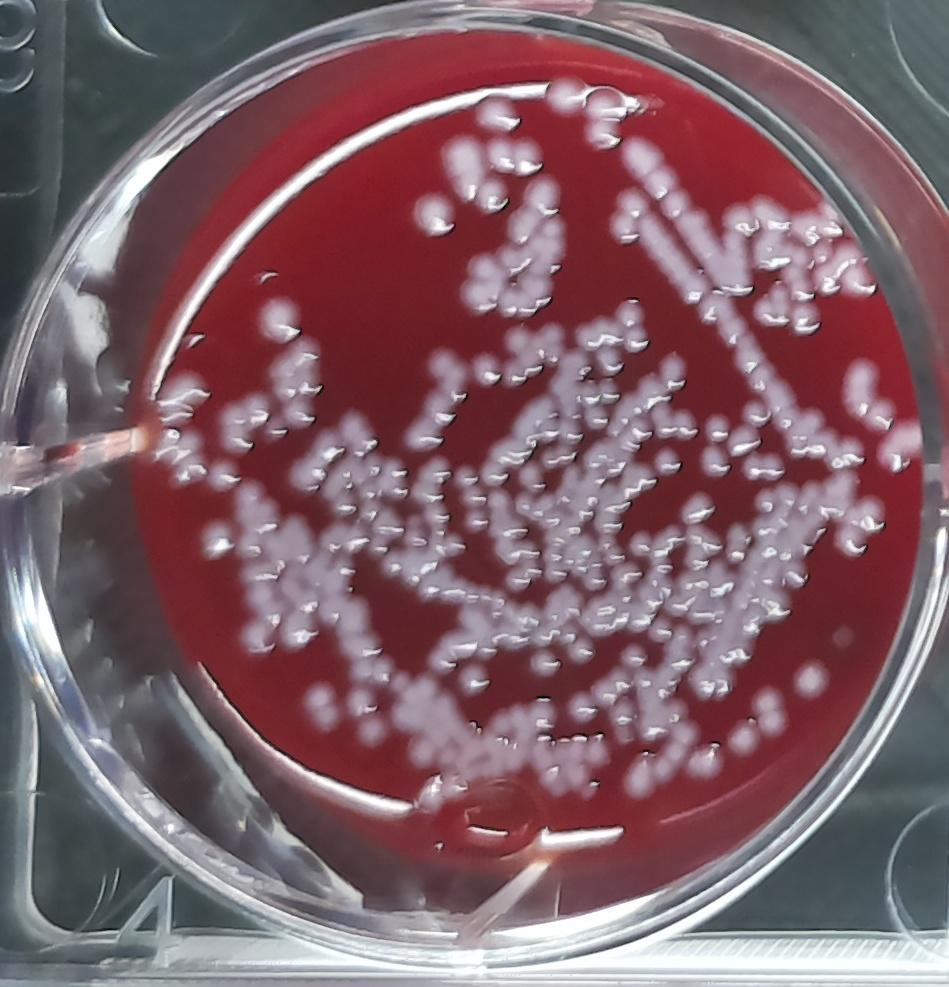smarcescens: (695, 282, 803, 429), (618, 127, 721, 275), (611, 186, 706, 308), (392, 339, 471, 454), (408, 183, 459, 240), (255, 292, 307, 345), (302, 680, 339, 735)
